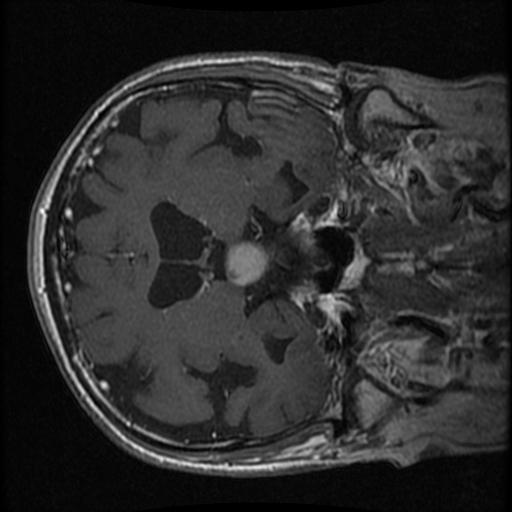pituitary tumour: (223, 238, 270, 286)
